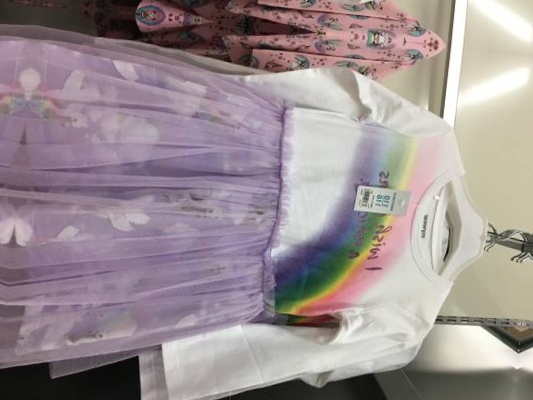Dress: (0, 34, 533, 400), (0, 0, 34, 370), (41, 0, 533, 25), (516, 88, 533, 400)
